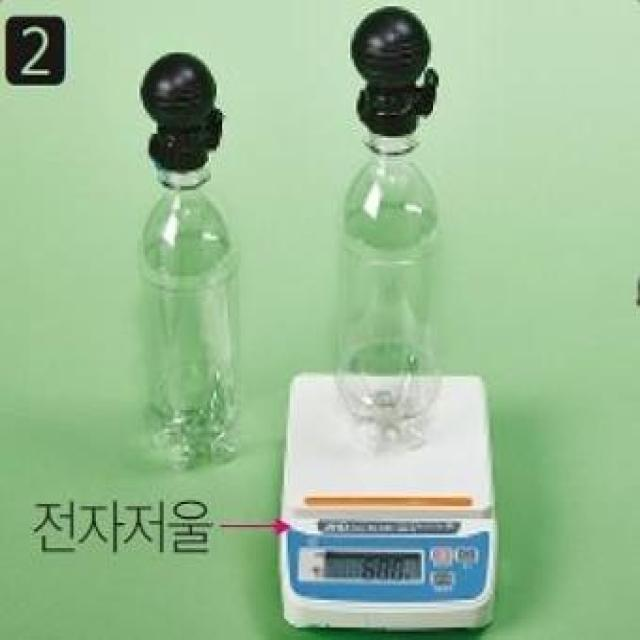bottle: (322, 5, 454, 455), (128, 51, 258, 467)
